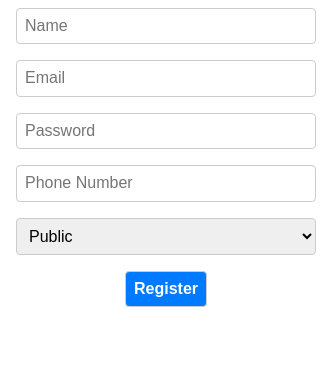
Test: displays staff key input when userType is staff
Select "Staff" in the dropdown at (166,236), box [16, 218, 316, 255]
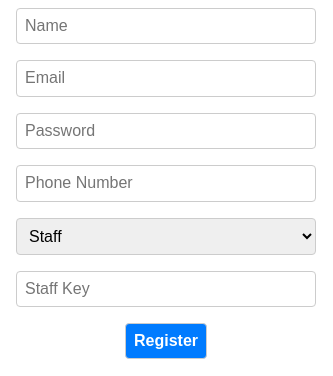
Expected: the field with placeholder "Staff Key" is shown, [16, 271, 316, 307]
